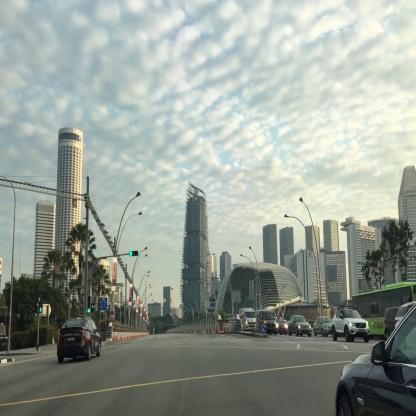green_traffic_light: (129, 251, 138, 256), (88, 296, 90, 312)
